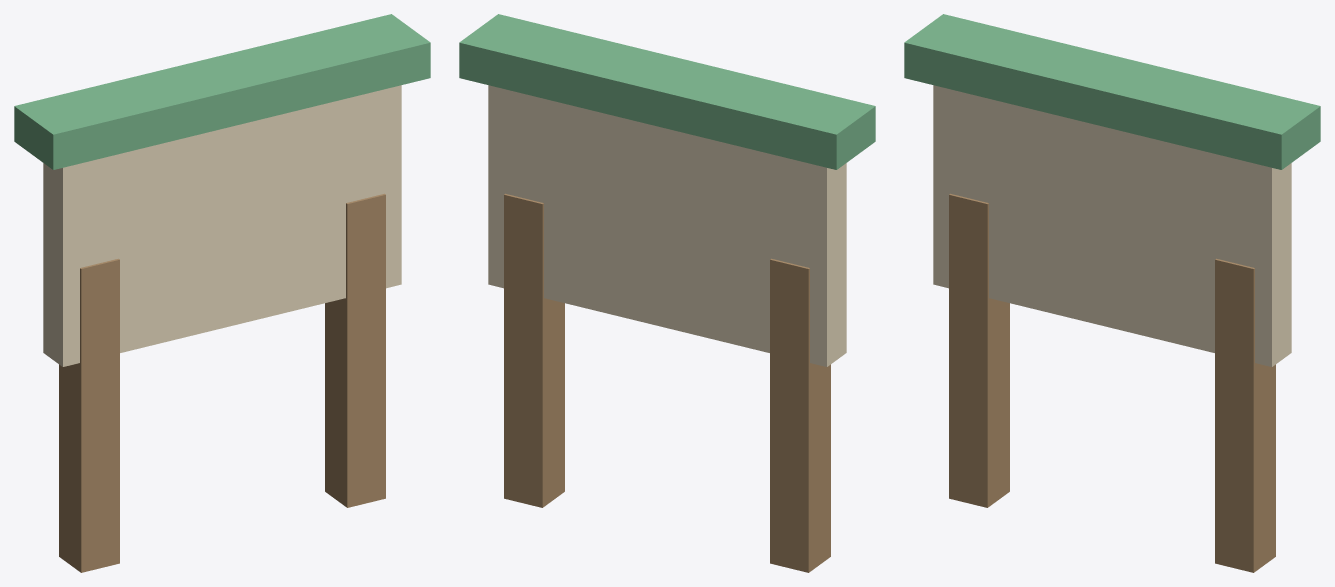
Rendered from prop-habitat-plaque.glb.
3 views of the same model, side by side, from view 1: azimuth 30°, elevation 25°; view 2: azimuth 150°, elevation 25°; view 3: azimuth 330°, elevation 25° (orthographic).
Parts seen in each view (by area): view 1: prop-habitat-plaque; view 2: prop-habitat-plaque; view 3: prop-habitat-plaque.
Boxes of the visible parts, <box> form: prop-habitat-plaque: <box>14,14,430,572</box>; prop-habitat-plaque: <box>459,14,875,572</box>; prop-habitat-plaque: <box>904,14,1320,572</box>.
Bounding box in the file's own units: 1.56 × 1.79 × 0.28.
